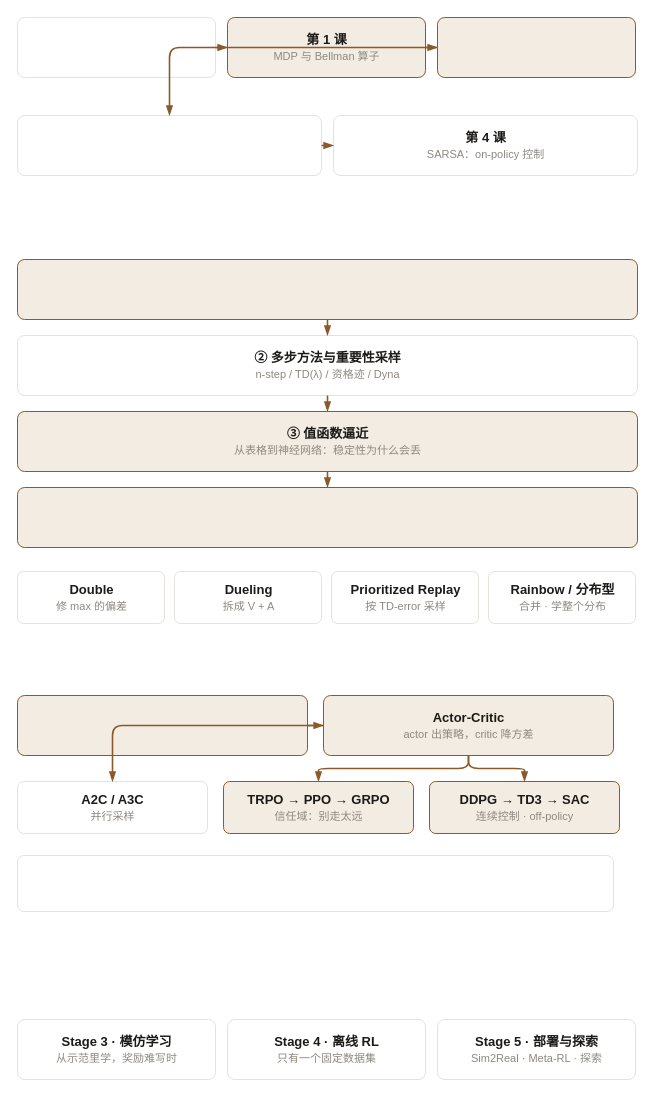
Some shapes in this 655 by 1097 pixel diagram are drawn without their labels. Each missing label, with the centre of its shape:
"① Q-learning 与 off-policy 把目标里的 a′ 换成 max" belongs at [327,289].
"④ DQN 家族 replay · target network · Double" belongs at [327,517].
"三支各解决什么 并行提吞吐 · 信任域保稳定 · 确定性策略进连续动作" belongs at [315,883].
"第 0 课 值函数与最优值函数" belongs at [116,47].
"第 2 课 动态规划" belongs at [536,47].
"第 3 课 蒙特卡罗与时序差分" belongs at [169,145].
"策略梯度 REINFORCE 直接优化 π(a|s)" belongs at [162,725].
